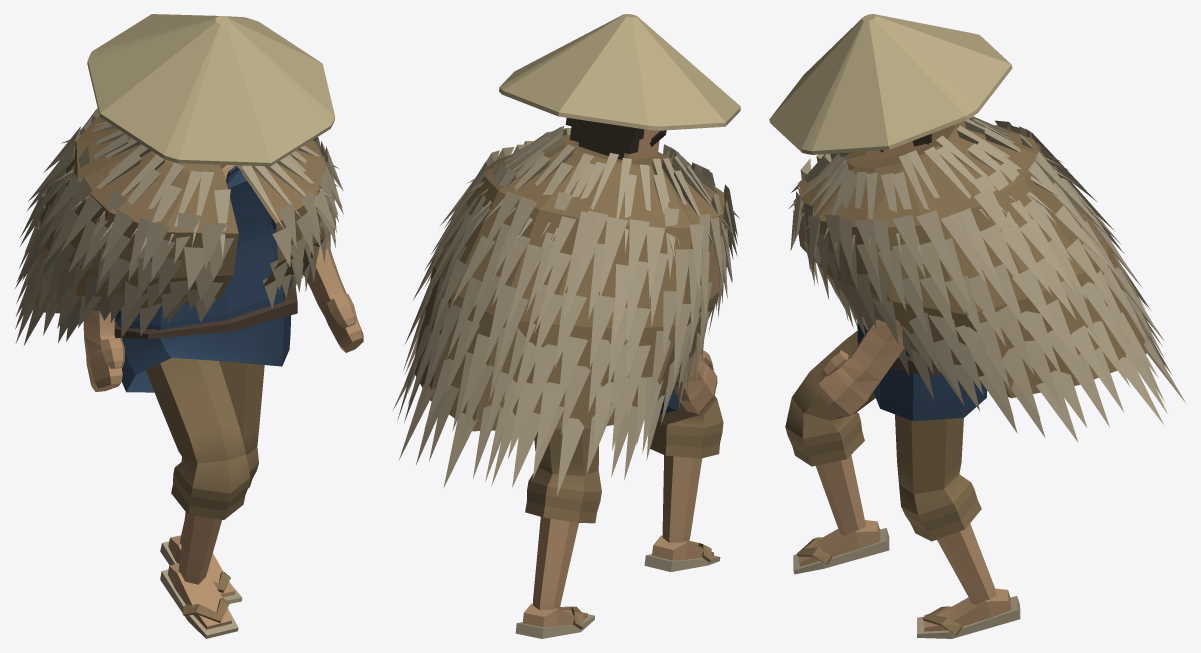
File: farmer-363820__walk3.glb
3 renders of one model, left to right at view 1: azimuth 30°, elevation 25°; view 2: azimuth 150°, elevation 25°; view 3: azimuth 270°, elevation 25°, orthographic. The views are drawn at different scales.
Parts seen in each view (by area): view 1: farmer-363820__walk3; view 2: farmer-363820__walk3; view 3: farmer-363820__walk3.
Part boxes in pixels (bbox=[...]): farmer-363820__walk3: bbox=[14, 14, 363, 638]; farmer-363820__walk3: bbox=[393, 14, 740, 638]; farmer-363820__walk3: bbox=[769, 14, 1185, 638].
Bounding box in the file's own units: 0.876 × 1.84 × 1.16.
